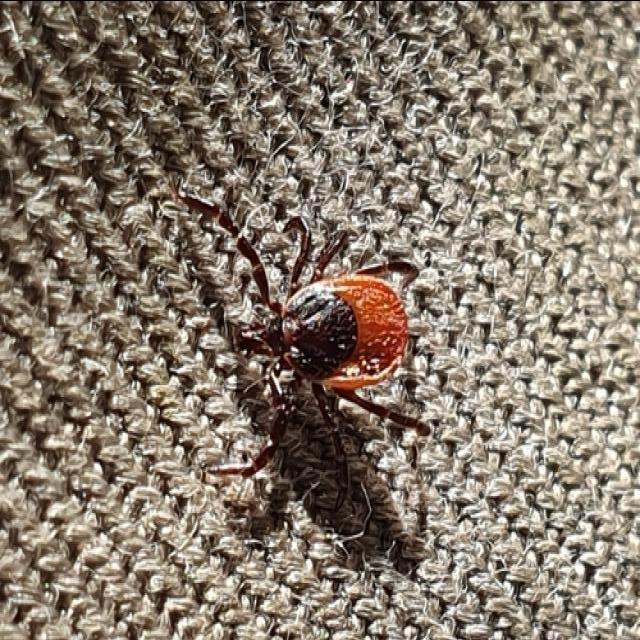Ixodes Ricinus-F: (166, 174, 431, 519)
